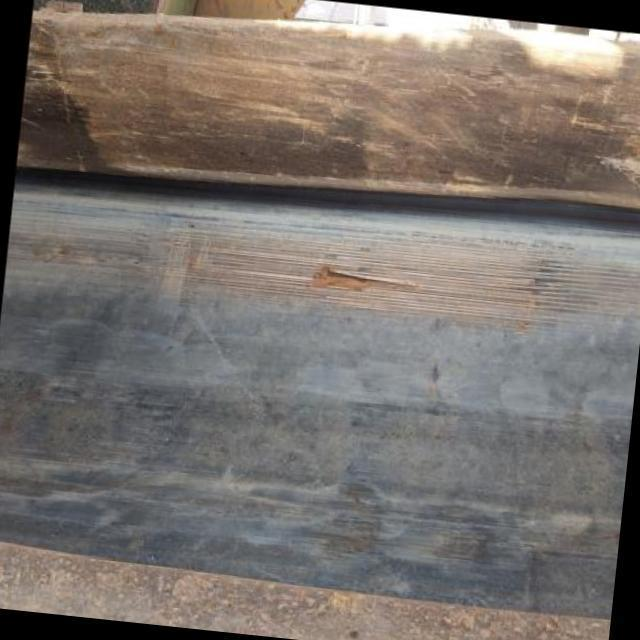Wear: (8, 191, 640, 339)
